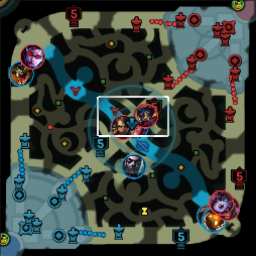bard: (203, 209, 226, 231)
draven: (217, 198, 238, 219)
ekko: (121, 154, 145, 178)
ezreal: (196, 204, 218, 227)
irelia: (126, 116, 149, 138)
lulu: (210, 191, 234, 213)
nidalee: (109, 115, 134, 140)
renekton: (9, 60, 34, 87)
vayne: (20, 43, 45, 68)
viktor: (135, 104, 158, 127)
